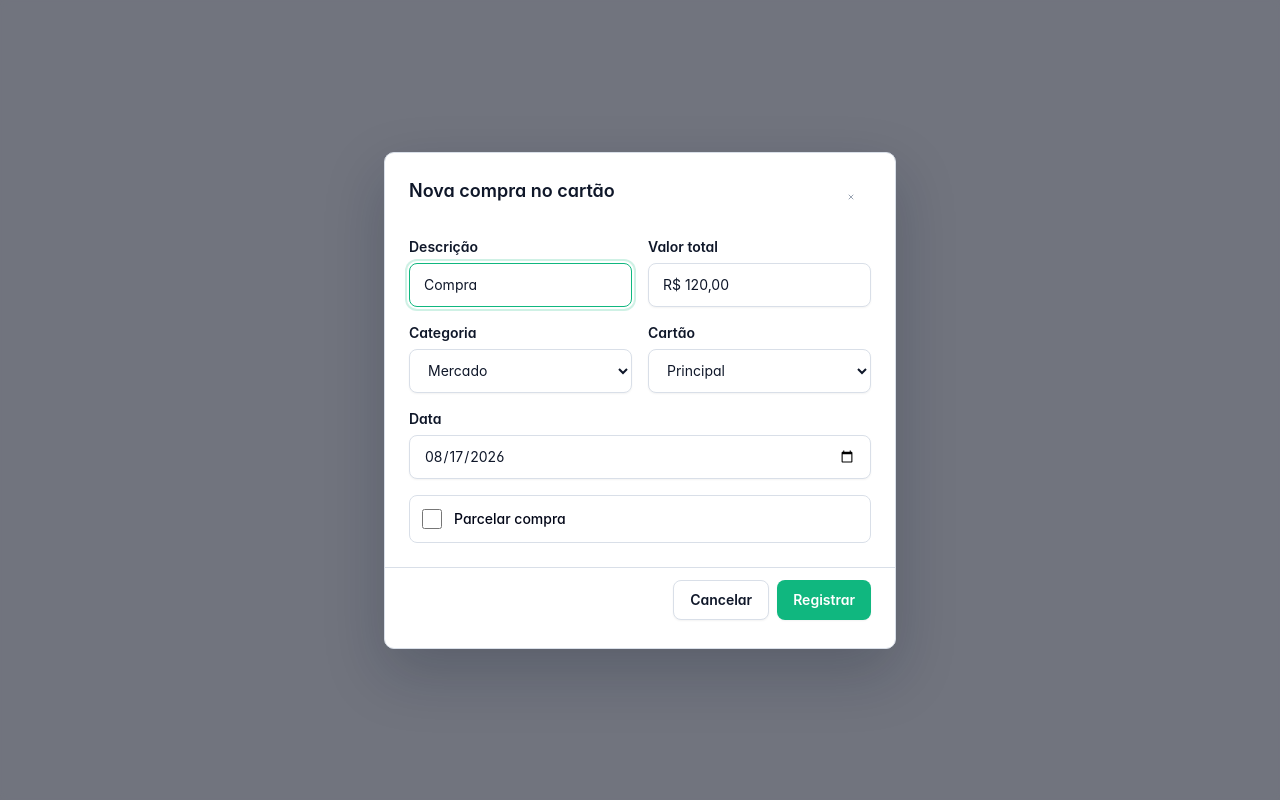
it: PurchaseFormModal › revela as opções e o cálculo quando o usuário decide parcelar
Click the checkbox labelled "Parcelar compra" at (432,518), box x1=422 y1=508 x2=442 y2=528
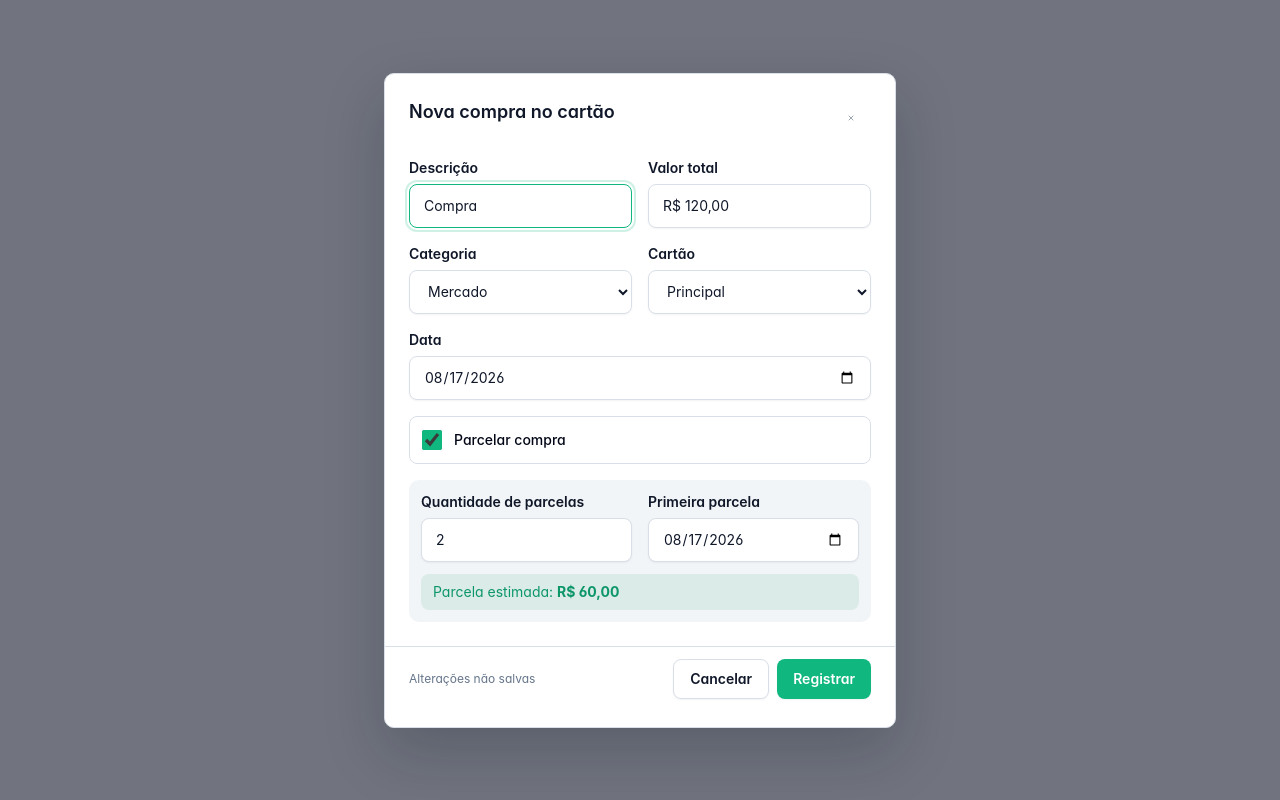
Now the number field labelled "Quantidade de parcelas" holds "2", box x1=421 y1=518 x2=632 y2=562
Now the date field labelled "Primeira parcela" is shown, box x1=648 y1=518 x2=859 y2=562
Now the text "Parcela estimada:" is shown, box x1=433 y1=582 x2=557 y2=600
